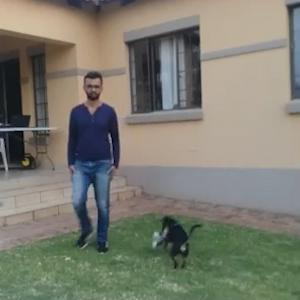follow: (65, 71, 123, 251)
